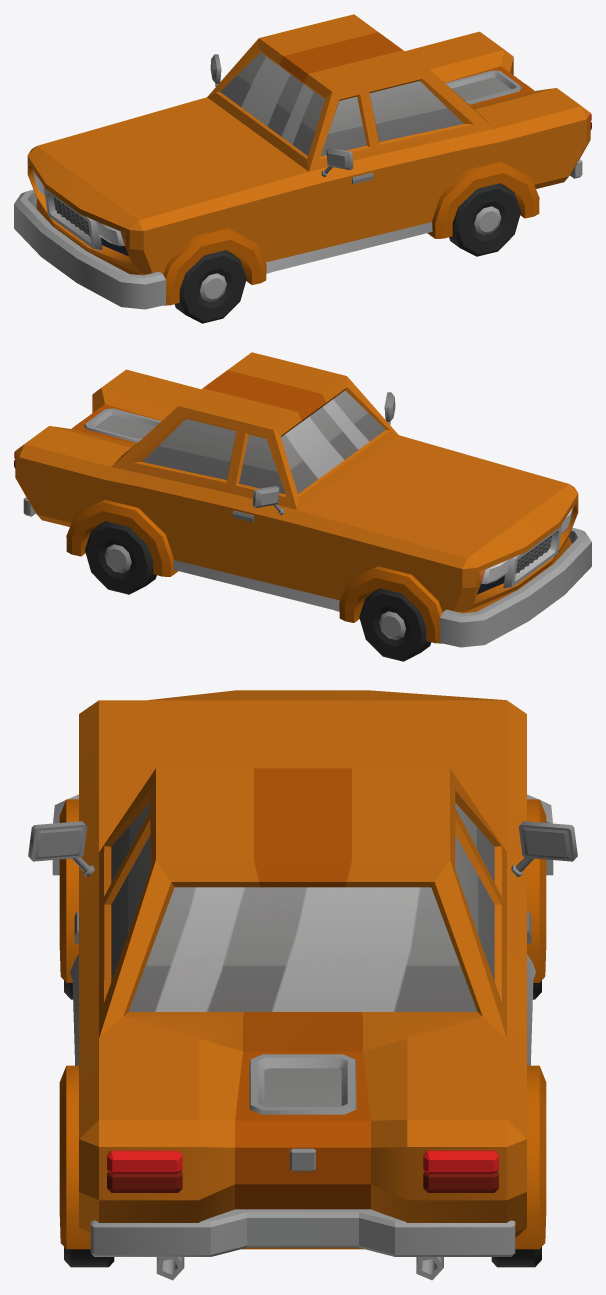
Rendered from Car_18_T.gltf.
The picture shows the model from 3 angles, top to bottom: view 1: azimuth 30°, elevation 25°; view 2: azimuth 150°, elevation 25°; view 3: azimuth 270°, elevation 25°; orthographic projection. The views are drawn at different scales.
Parts seen in each view (by area): view 1: Car_18_T, RL, FL; view 2: Car_18_T, RR, FR; view 3: Car_18_T.
Part boxes in pixels (x1,y1,x2,y2): Car_18_T: (14,14,591,309); RL: (449,183,520,256); FL: (174,250,246,323); Car_18_T: (14,352,591,647); RR: (85,521,156,594); FR: (359,588,431,661); Car_18_T: (28,690,577,1280).
Bounding box in the file's own units: 3.78 × 1.34 × 1.85.
3 materials, 3 textured.
